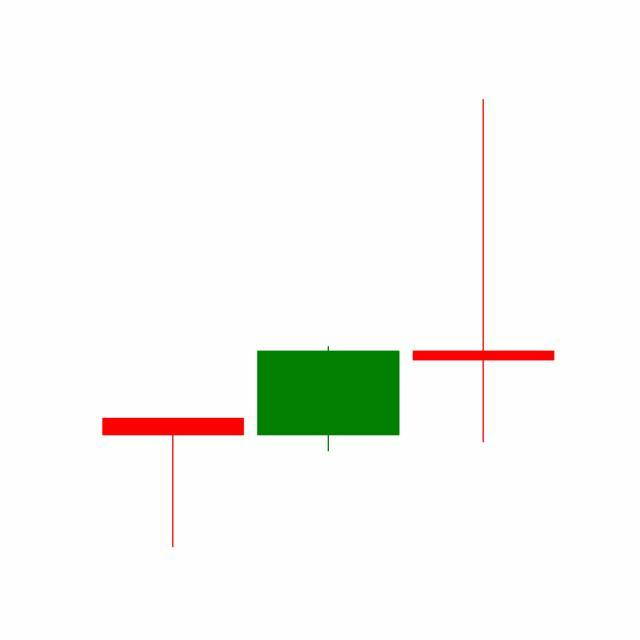Marubozu: (250, 345, 407, 453)
